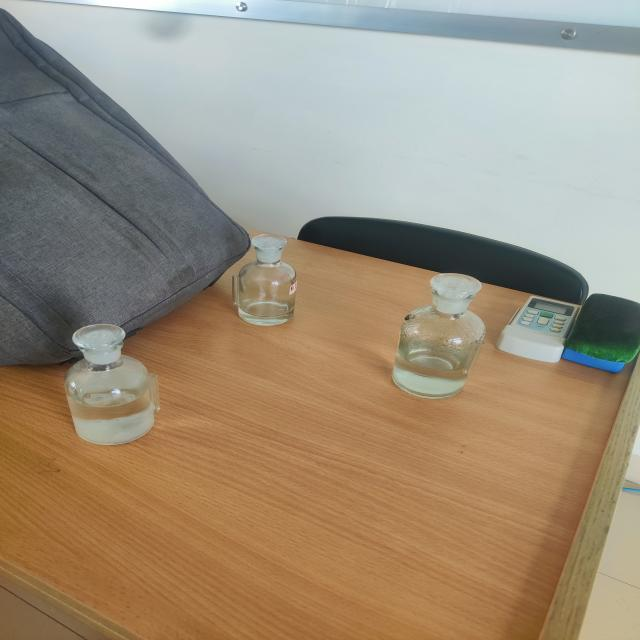Reagent_Bottle: (368, 263, 516, 423), (43, 312, 186, 458), (197, 215, 331, 339)
